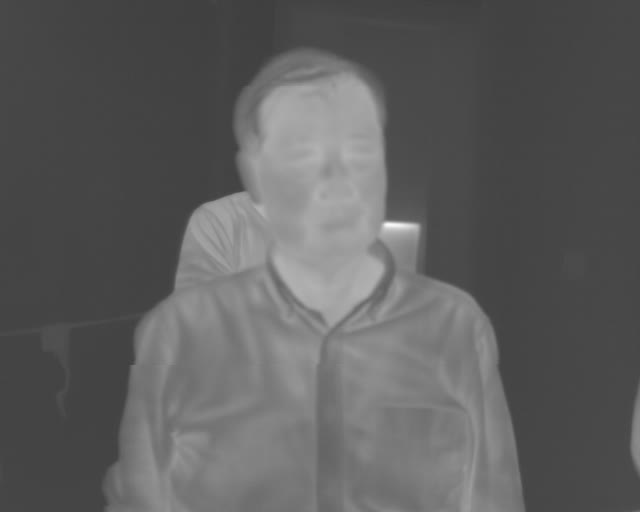face: (232, 43, 388, 264)
